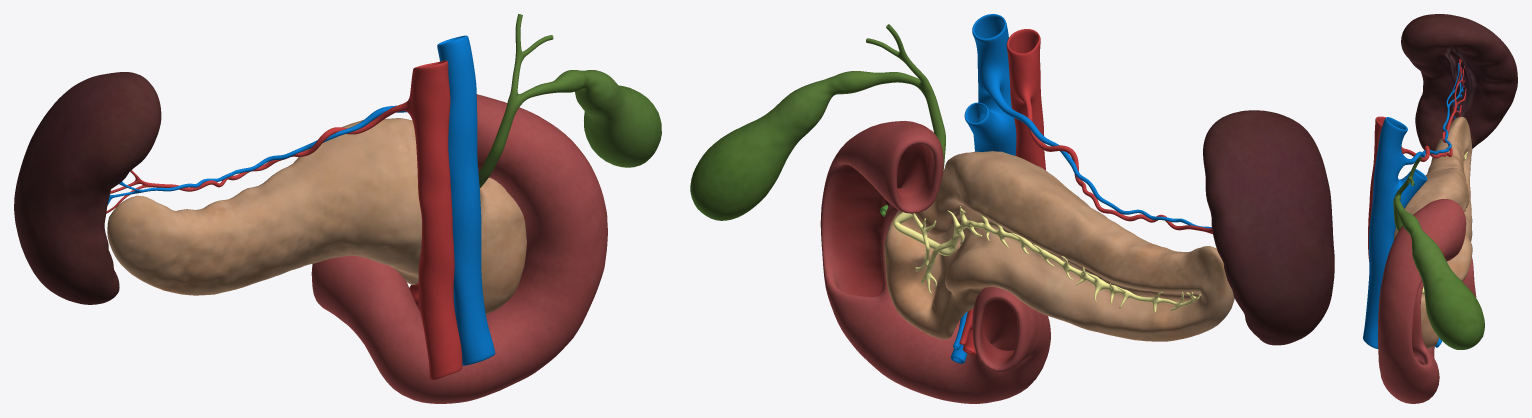
File: pancreas.glb
The picture shows the model from 3 angles, left to right: view 1: azimuth 30°, elevation 25°; view 2: azimuth 150°, elevation 25°; view 3: azimuth 270°, elevation 25°; orthographic projection. The views are drawn at different scales.
Parts seen in each view (by area): view 1: Object_3, Object_2, Object_4; view 2: Object_3, Object_2, Object_4; view 3: Object_3, Object_2, Object_4.
Boxes of the visible parts, x1,y1,x2,y2 form: Object_3: [107, 14, 661, 403]; Object_2: [14, 35, 495, 380]; Object_4: [107, 14, 656, 372]; Object_3: [820, 26, 1234, 403]; Object_2: [950, 14, 1334, 363]; Object_4: [690, 24, 1211, 354]; Object_3: [1367, 63, 1476, 403]; Object_2: [1363, 14, 1517, 348]; Object_4: [1368, 59, 1484, 349].
Bounding box in the file's own units: 25.21 × 14.37 × 7.62.
3 materials, 3 textured.
